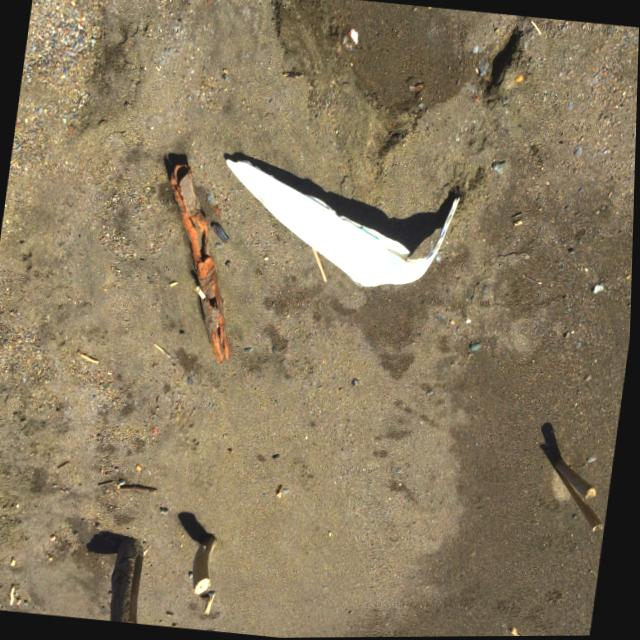Cardboard: (205, 152, 467, 303)
